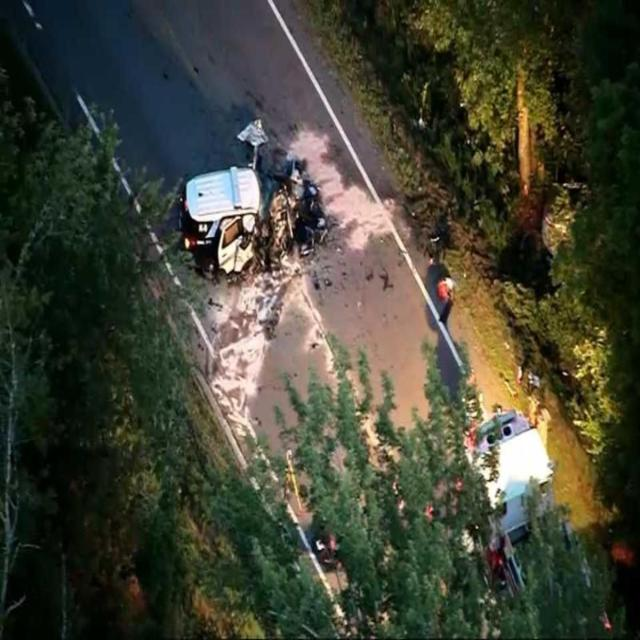traffic_incident: (173, 140, 335, 284)
